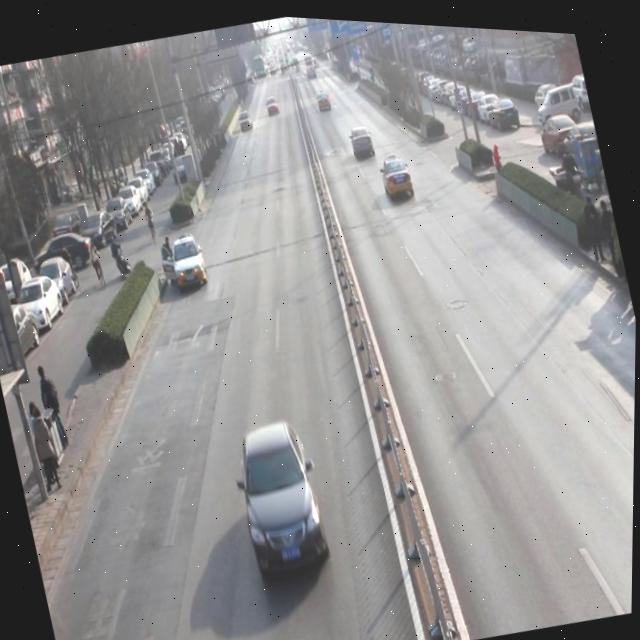car: (229, 407, 338, 575), (164, 226, 210, 285), (374, 146, 419, 200), (345, 117, 379, 161)
